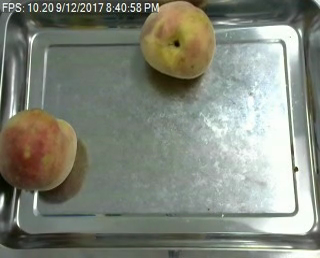Peach: (0, 107, 79, 193), (140, 1, 215, 79)
